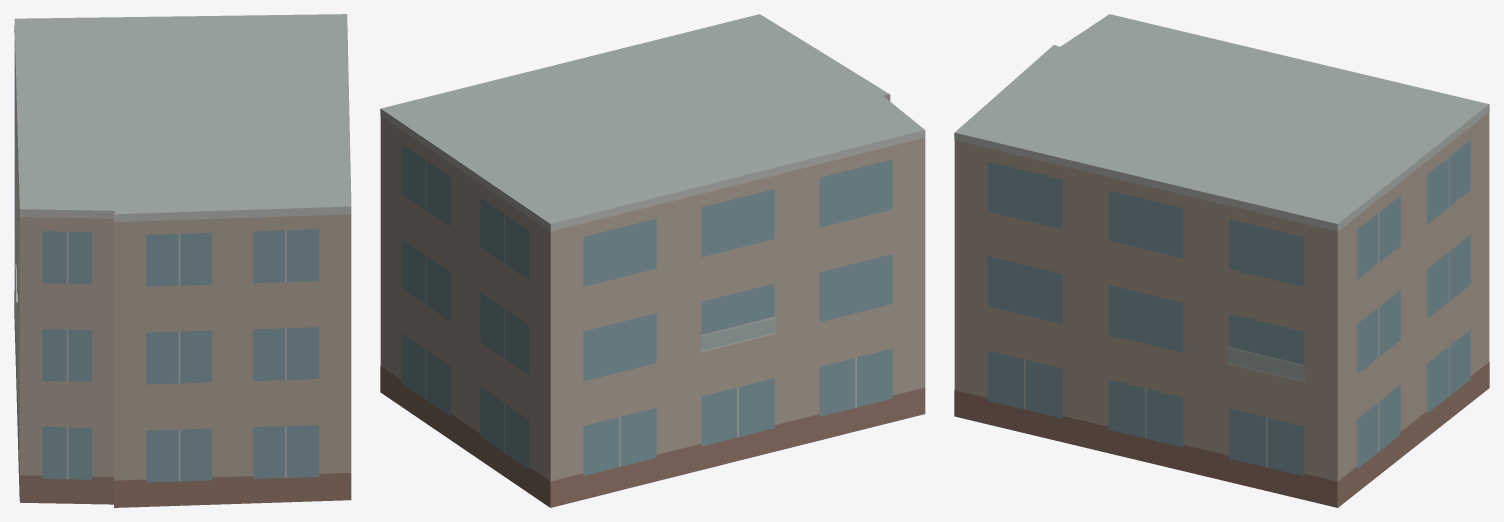
File: survey-upis-32888793.glb
3 renders of one model, left to right at view 1: azimuth 30°, elevation 25°; view 2: azimuth 150°, elevation 25°; view 3: azimuth 270°, elevation 25°, orthographic. The views are drawn at different scales.
Visible parts, largest first — view 1: survey-upis-32888793.tmp; view 2: survey-upis-32888793.tmp; view 3: survey-upis-32888793.tmp.
Boxes of the visible parts, x1,y1,x2,y2 form: survey-upis-32888793.tmp: (14, 14, 351, 507); survey-upis-32888793.tmp: (380, 14, 925, 507); survey-upis-32888793.tmp: (954, 14, 1489, 507).
Size of the model in its own units: 14.54 by 9.15 by 15.64.
